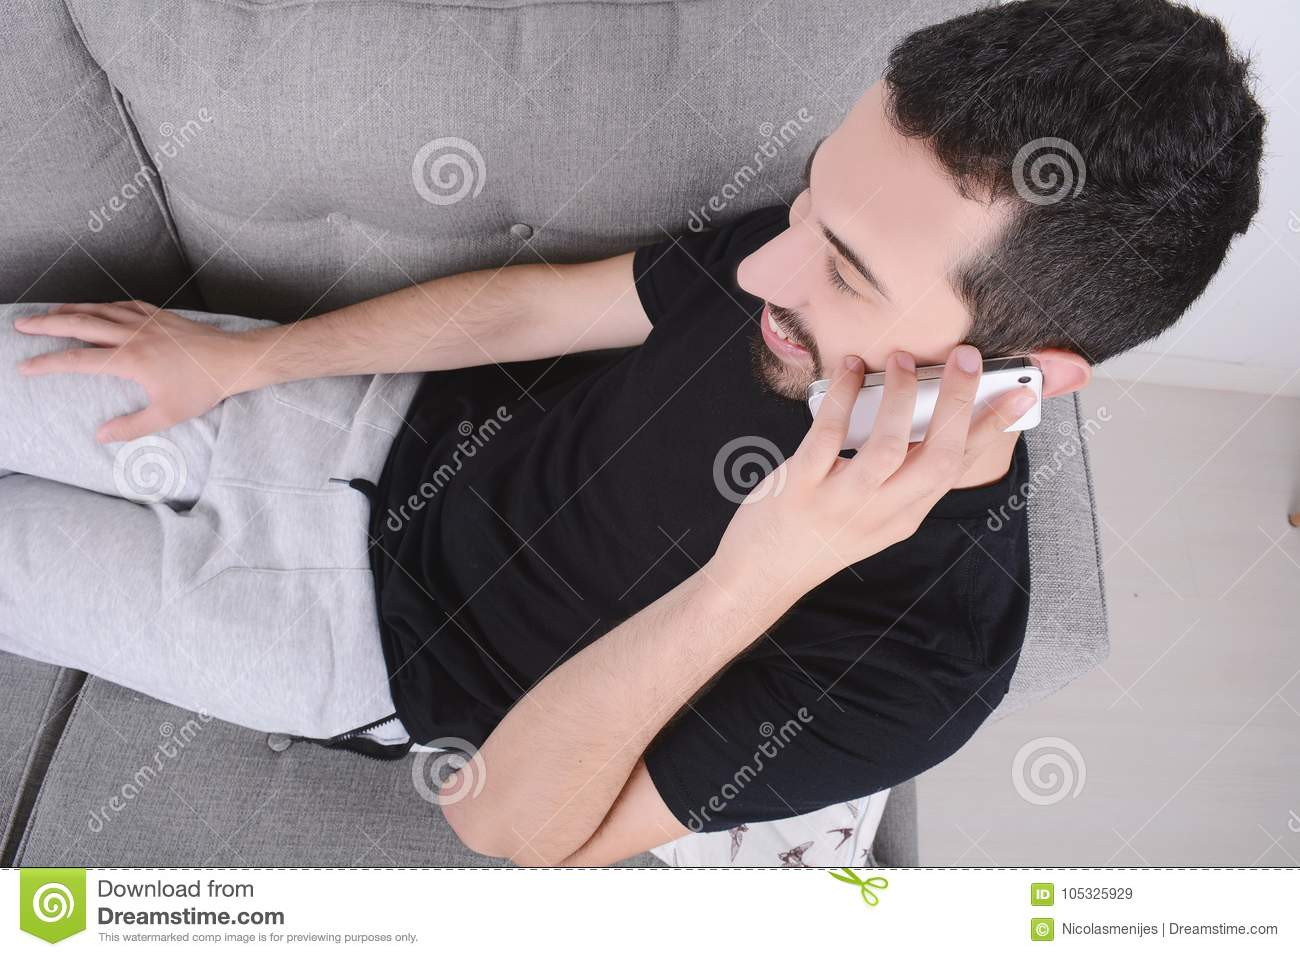phone: (805, 359, 1049, 447)
talk: (717, 133, 1049, 598)
